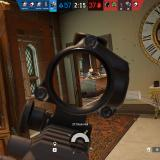Character: (86, 68, 98, 78)
Head: (89, 68, 94, 74)
